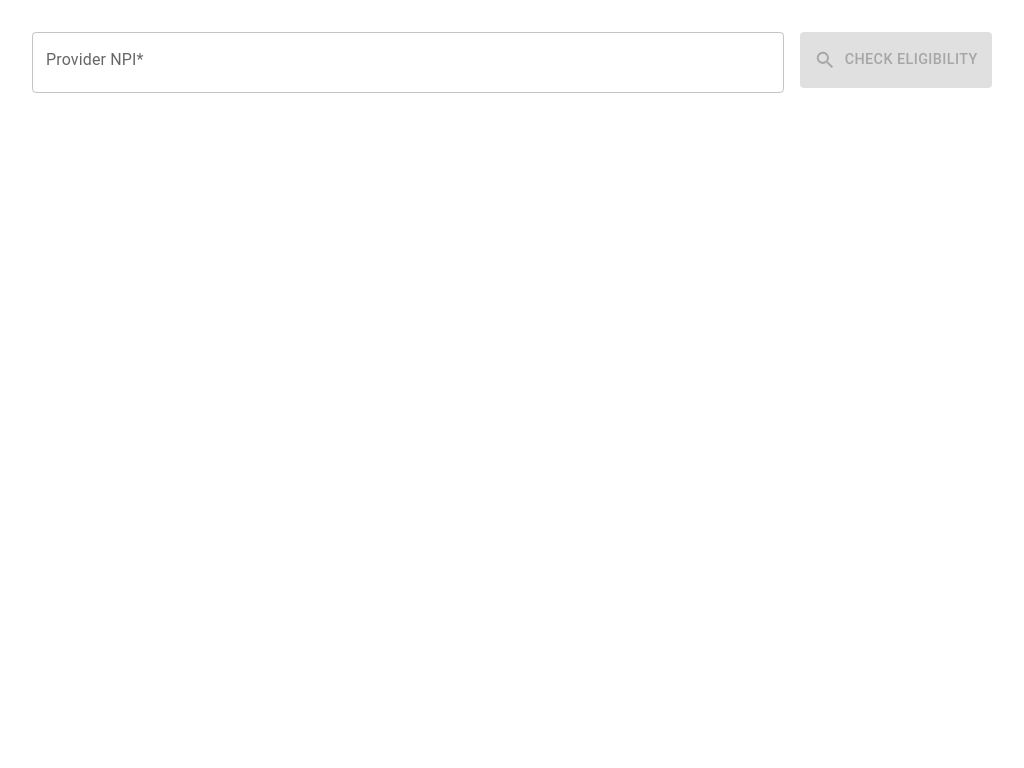
NPISearch Component › handles provider with board certification correctly
Type "1104025329" into the field labelled "Provider NPI*" at (408, 62), box [32, 32, 784, 93]
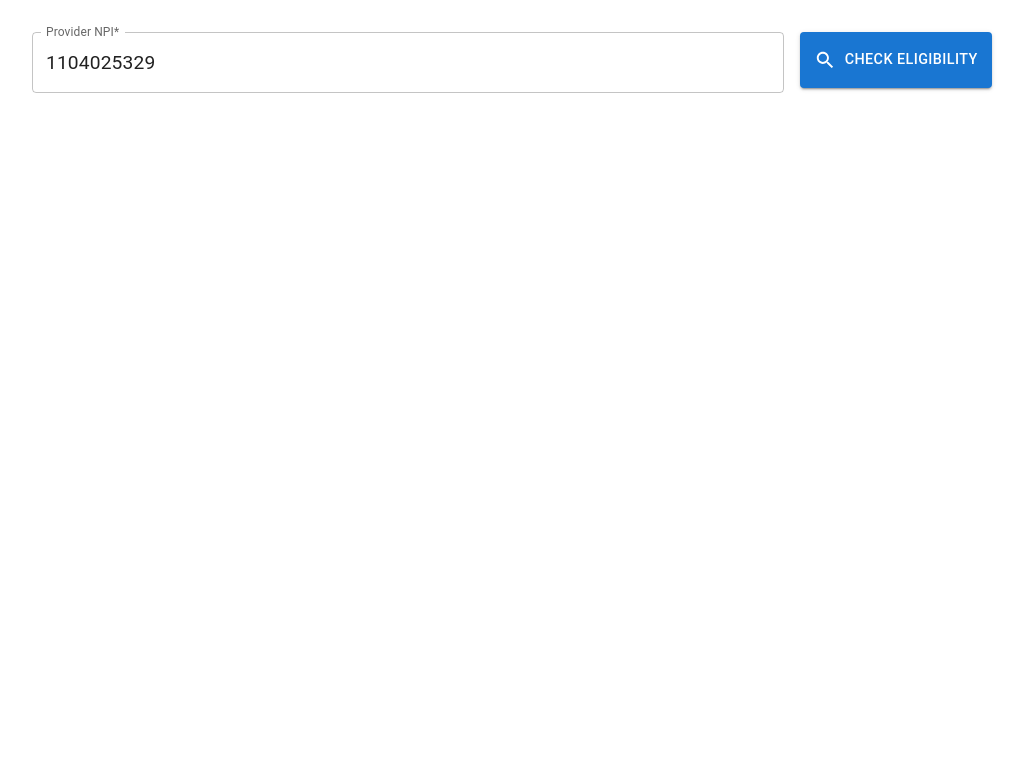
Click the button "Check Eligibility" at (896, 60), box [800, 32, 992, 88]
(page scrolled)
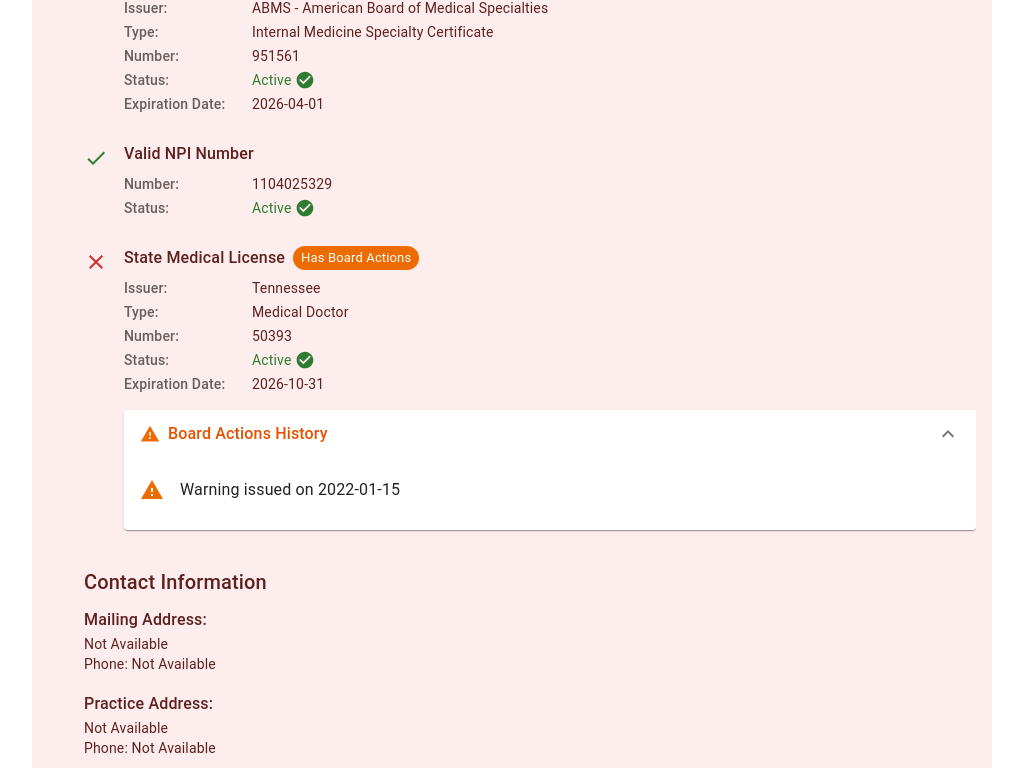
Expected: the element with test id "detail-field-issuer-abms-american-board-of-medical-specialties" shows "ABMS - American Board of Medical Specialties", [252, 0, 548, 16]
Expected: the element with test id "detail-field-type-internal-medicine-specialty-certificate" shows "Internal Medicine Specialty Certificate", [252, 24, 494, 40]
Expected: the element with test id "detail-field-number-951561" shows "951561", [252, 48, 300, 64]
